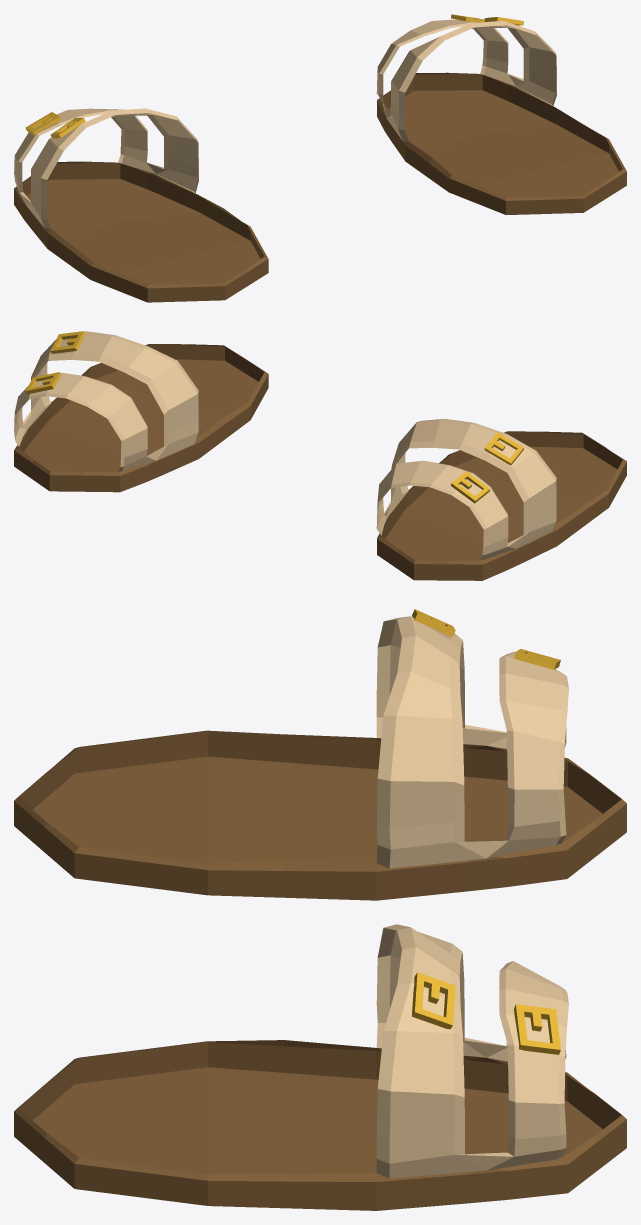
File: sandalsonly.fbx
The picture shows the model from 3 angles, top to bottom: view 1: azimuth 30°, elevation 25°; view 2: azimuth 150°, elevation 25°; view 3: azimuth 270°, elevation 25°; orthographic projection. The views are drawn at different scales.
Visible parts, largest first — view 1: bottom, straps, Plane.001, Plane; view 2: bottom, straps, Plane, Plane.001; view 3: bottom, straps, Plane.001, Plane.
Boxes of the visible parts, x1=… form: bottom: x1=14, y1=72, x2=626, y2=302; straps: x1=14, y1=19, x2=556, y2=228; Plane.001: x1=25, y1=14, x2=484, y2=135; Plane: x1=50, y1=17, x2=523, y2=138; bottom: x1=14, y1=344, x2=626, y2=580; straps: x1=14, y1=331, x2=556, y2=560; Plane: x1=50, y1=331, x2=523, y2=465; Plane.001: x1=25, y1=372, x2=490, y2=503; bottom: x1=14, y1=730, x2=626, y2=1210; straps: x1=376, y1=616, x2=568, y2=1178; Plane.001: x1=514, y1=649, x2=560, y2=1054; Plane: x1=412, y1=609, x2=455, y2=1029.
Bounding box in the file's own units: 72.29 × 14.91 × 41.67.
